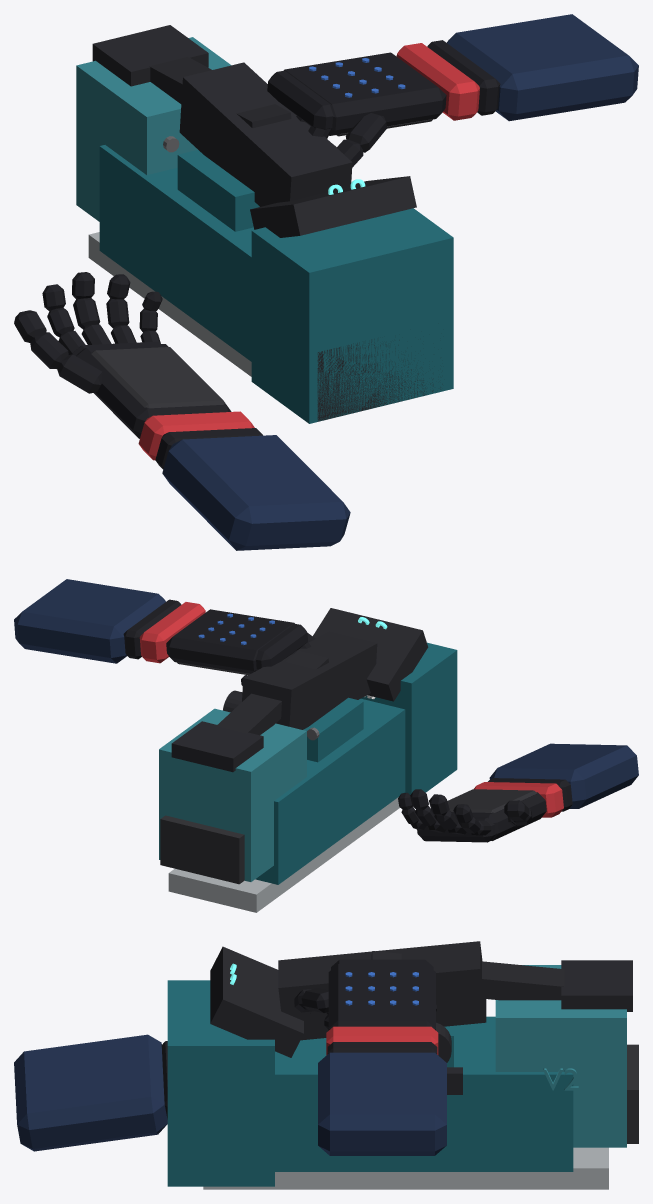
The model's file is hands_holding_strapping_tool.glb.
3 views of the same model, one above another, from view 1: azimuth 30°, elevation 25°; view 2: azimuth 150°, elevation 25°; view 3: azimuth 270°, elevation 25° (orthographic). The views are drawn at different scales.
Parts seen in each view (by area): view 1: BatteryHousing, LowerBody, LeftSleeve, HandleGrip, RightSleeve, FrontHead, RightPalm, DisplayPanel, LeftPalmPad, BatteryPack, StrapSlot, HandleCore (+11 smaller); view 2: LowerBody, FrontHead, RightSleeve, BatteryHousing, HandleGrip, LeftSleeve, RightPalm, DisplayPanel, NosePlate, BasePlate, StrapSlot, TopLever (+9 smaller); view 3: LowerBody, BatteryHousing, LeftSleeve, RightSleeve, FrontHead, HandleGrip, BasePlate, RightPalm, DisplayPanel, StrapSlot, TopLever, RightCuffRed (+7 smaller).
Boxes of the visible parts, x1,y1,x2,y2 form: BatteryHousing: (251, 208, 453, 423); LowerBody: (99, 145, 254, 361); LeftSleeve: (162, 435, 350, 550); HandleGrip: (179, 62, 352, 206); RightSleeve: (447, 14, 638, 121); FrontHead: (76, 37, 231, 221); RightPalm: (284, 52, 446, 135); DisplayPanel: (250, 176, 416, 237); LeftPalmPad: (91, 347, 225, 408); BatteryPack: (317, 339, 442, 421); StrapSlot: (92, 25, 208, 86); HandleCore: (177, 150, 259, 231); LowerBody: (255, 698, 405, 884); FrontHead: (159, 708, 306, 881); RightSleeve: (14, 579, 165, 663); BatteryHousing: (361, 642, 457, 794); HandleGrip: (242, 631, 377, 729); LeftSleeve: (489, 743, 638, 808); RightPalm: (166, 609, 294, 673); DisplayPanel: (312, 608, 428, 701); NosePlate: (160, 815, 244, 884); BasePlate: (168, 797, 399, 912); StrapSlot: (171, 721, 263, 772); TopLever: (216, 650, 328, 735); LowerBody: (275, 1016, 573, 1171); BatteryHousing: (167, 980, 274, 1186); LeftSleeve: (14, 1034, 167, 1151); RightSleeve: (318, 1052, 446, 1155); FrontHead: (495, 965, 626, 1147); HandleGrip: (278, 941, 486, 1040); BasePlate: (203, 1147, 608, 1189); RightPalm: (328, 964, 435, 1030); DisplayPanel: (210, 946, 303, 1057); StrapSlot: (561, 960, 632, 1011); TopLever: (371, 951, 564, 1000); RightCuffRed: (326, 1026, 438, 1055).
Bounding box in the file's own units: 0.5463 × 0.2432 × 0.5237.
